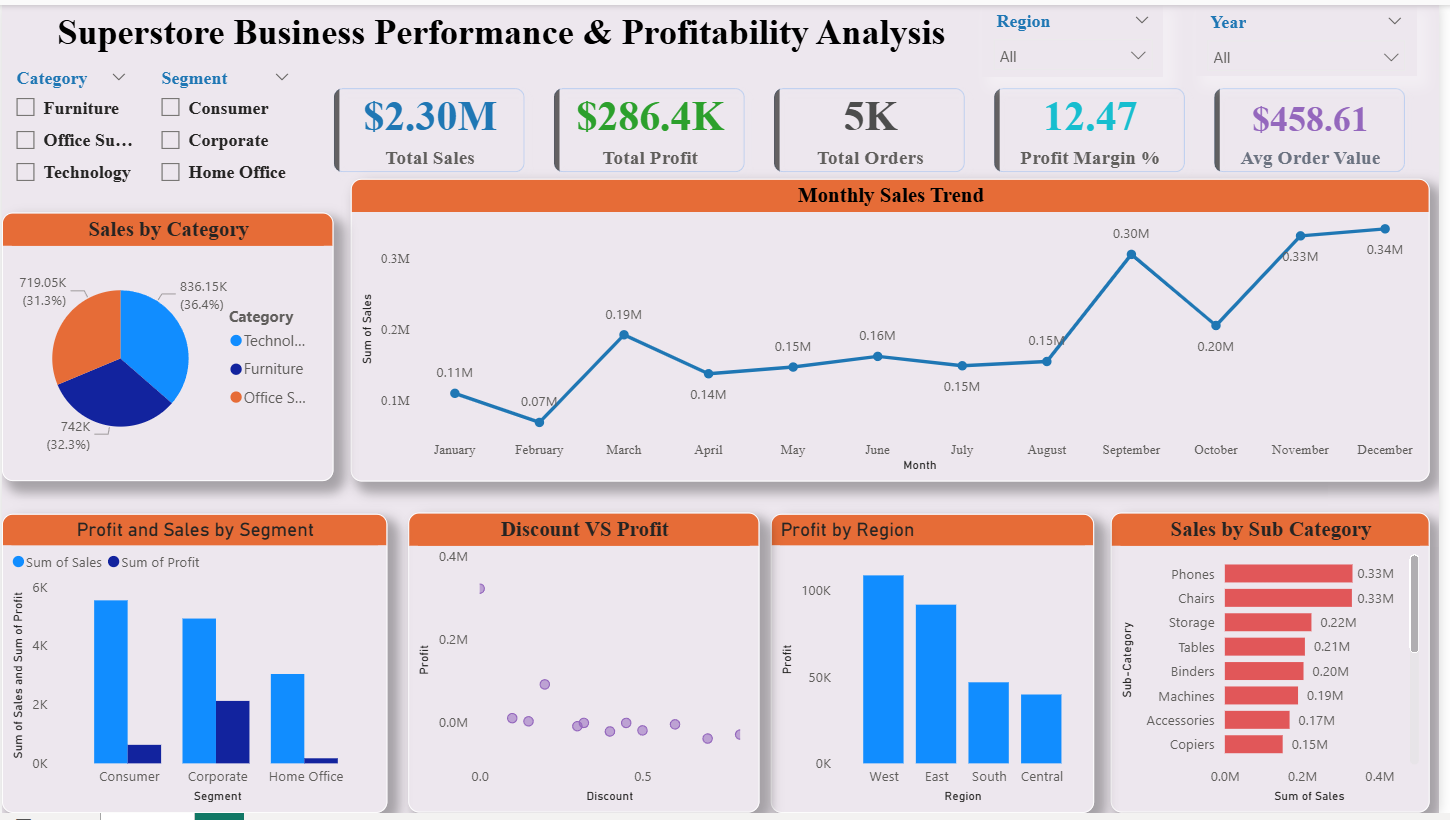

This screenshot's page, from the dashboard's own definition file:
{"tool":"powerbi","page":{"name":"Page 1","canvas":[1280,720],"ordinal":0},"visuals":[{"type":"cardVisual","fields":{"Data":["samplesuperstoresales.Total Sales","samplesuperstoresales.Total Profit","samplesuperstoresales.Total Orders","samplesuperstoresales.Profit Margin %","samplesuperstoresales.Avg Order Value"]},"box":[268.6,46.5,1011.6,129.1],"z":0},{"type":"textbox","box":[0,0,889.5,101.2],"z":1000},{"type":"slicer","fields":{"Values":["samplesuperstoresales.Category"]},"box":[0,51.2,123.3,124.4],"z":2000},{"type":"slicer","fields":{"Values":["samplesuperstoresales.Region"]},"box":[873.3,0,161.6,64],"z":3000},{"type":"slicer","fields":{"Values":["samplesuperstoresales.Segment"]},"box":[129.1,51.2,139.5,124.4],"z":4000},{"type":"slicer","fields":{"Values":["samplesuperstoresales.Ship_Date.Variation.Date Hierarchy.Year"]},"box":[1062.8,1.2,196.5,62.8],"z":5000},{"type":"lineChart","title":"Monthly Sales Trend","fields":{"Y":["Sum(samplesuperstoresales.Sales)"],"Category":["samplesuperstoresales.Ship_Date.Variation.Date Hierarchy.Month"]},"box":[310.5,154.7,960.5,269.8],"z":6000},{"type":"pieChart","title":"Sales by Category","fields":{"Category":["samplesuperstoresales.Category"],"Y":["Sum(samplesuperstoresales.Sales)"]},"box":[0,184.9,295.3,239.5],"z":7000},{"type":"clusteredBarChart","title":"Sales by Sub Category","fields":{"Category":["samplesuperstoresales.Sub-Category"],"Y":["Sum(samplesuperstoresales.Sales)"]},"box":[987.2,452.3,283.7,267.4],"z":8000},{"type":"columnChart","fields":{"Category":["samplesuperstoresales.Region"],"Y":["Sum(samplesuperstoresales.Profit)"]},"box":[684.9,453.5,288.4,266.3],"z":9000},{"type":"scatterChart","title":"Discount VS Profit","fields":{"Y":["Sum(samplesuperstoresales.Profit)"],"X":["samplesuperstoresales.Discount"]},"box":[361.6,452.3,312.8,267.4],"z":10000},{"type":"clusteredColumnChart","title":"Profit and Sales by Segment","fields":{"Category":["samplesuperstoresales.Segment"],"Y":["Sum(samplesuperstoresales.Sales)","Sum(samplesuperstoresales.Profit)"]},"box":[0,453.5,343,266.3],"z":11000}]}

Visuals, with their boxes in screenshot pixels (x1, y1, x2, y2), scaled from the page's 1280x720 canvas onto the 1450x820 screenshot:
cardVisual - samplesuperstoresales.Total Sales x samplesuperstoresales.Total Profit: region(304, 53, 1449, 200)
textbox: region(0, 0, 1008, 115)
slicer - samplesuperstoresales.Category: region(0, 58, 140, 200)
slicer - samplesuperstoresales.Region: region(989, 0, 1172, 73)
slicer - samplesuperstoresales.Segment: region(146, 58, 304, 200)
slicer - samplesuperstoresales.Ship_Date.Variation.Date Hierarchy.Year: region(1204, 1, 1427, 73)
"Monthly Sales Trend" lineChart: region(352, 176, 1440, 483)
"Sales by Category" pieChart: region(0, 211, 335, 483)
"Sales by Sub Category" clusteredBarChart: region(1118, 515, 1440, 819)
columnChart - samplesuperstoresales.Region x Sum(samplesuperstoresales.Profit): region(776, 516, 1103, 819)
"Discount VS Profit" scatterChart: region(410, 515, 764, 819)
"Profit and Sales by Segment" clusteredColumnChart: region(0, 516, 389, 819)
